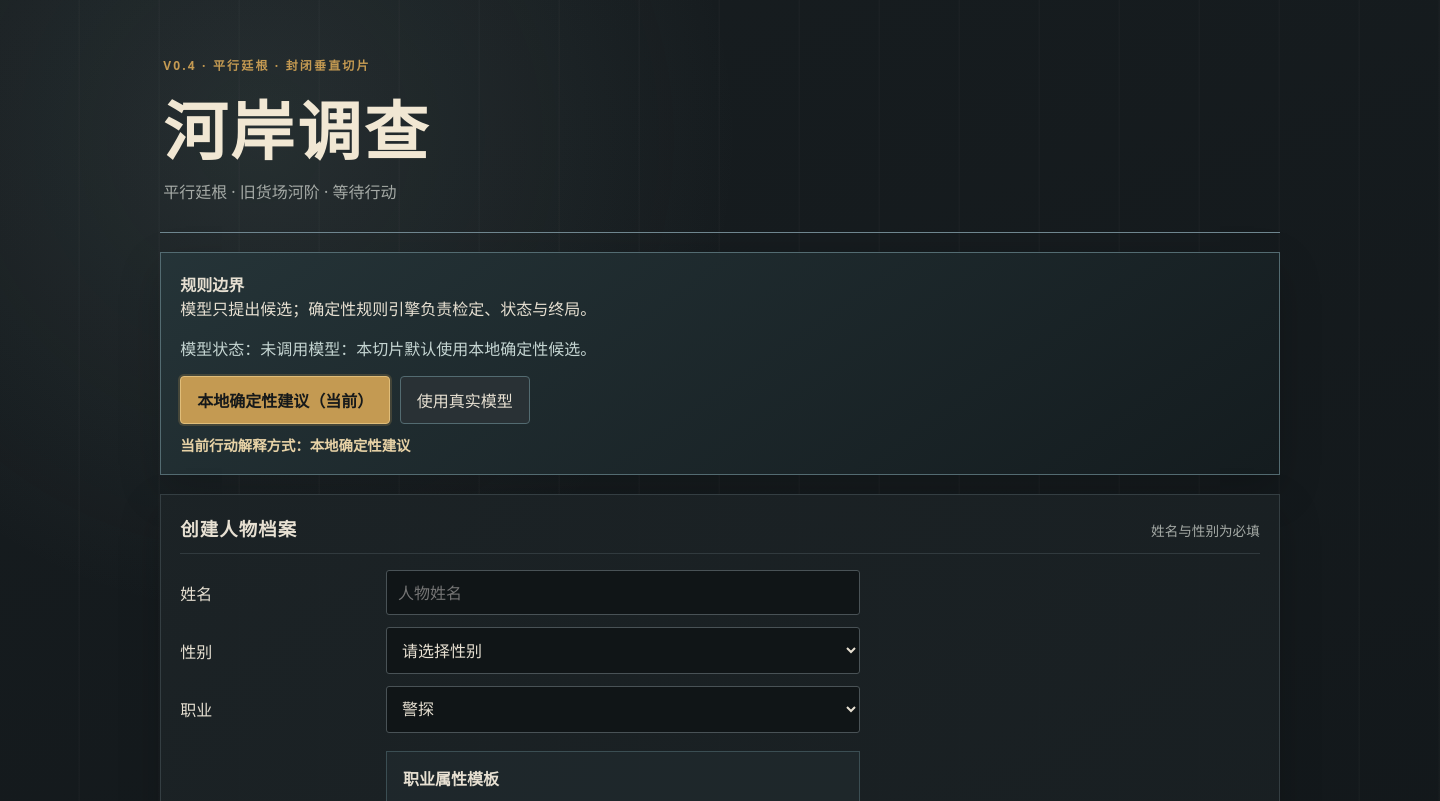
Scenario: V0.4 平行廷根可见切片 › 明确显示当前行动解释方式，并用选中样式反馈模式切换
Check: the text "当前行动解释方式：本地确定性建议" is shown, box [180,436,410,455]
Click the button "使用真实模型" at (465, 400), box [400,376,530,424]
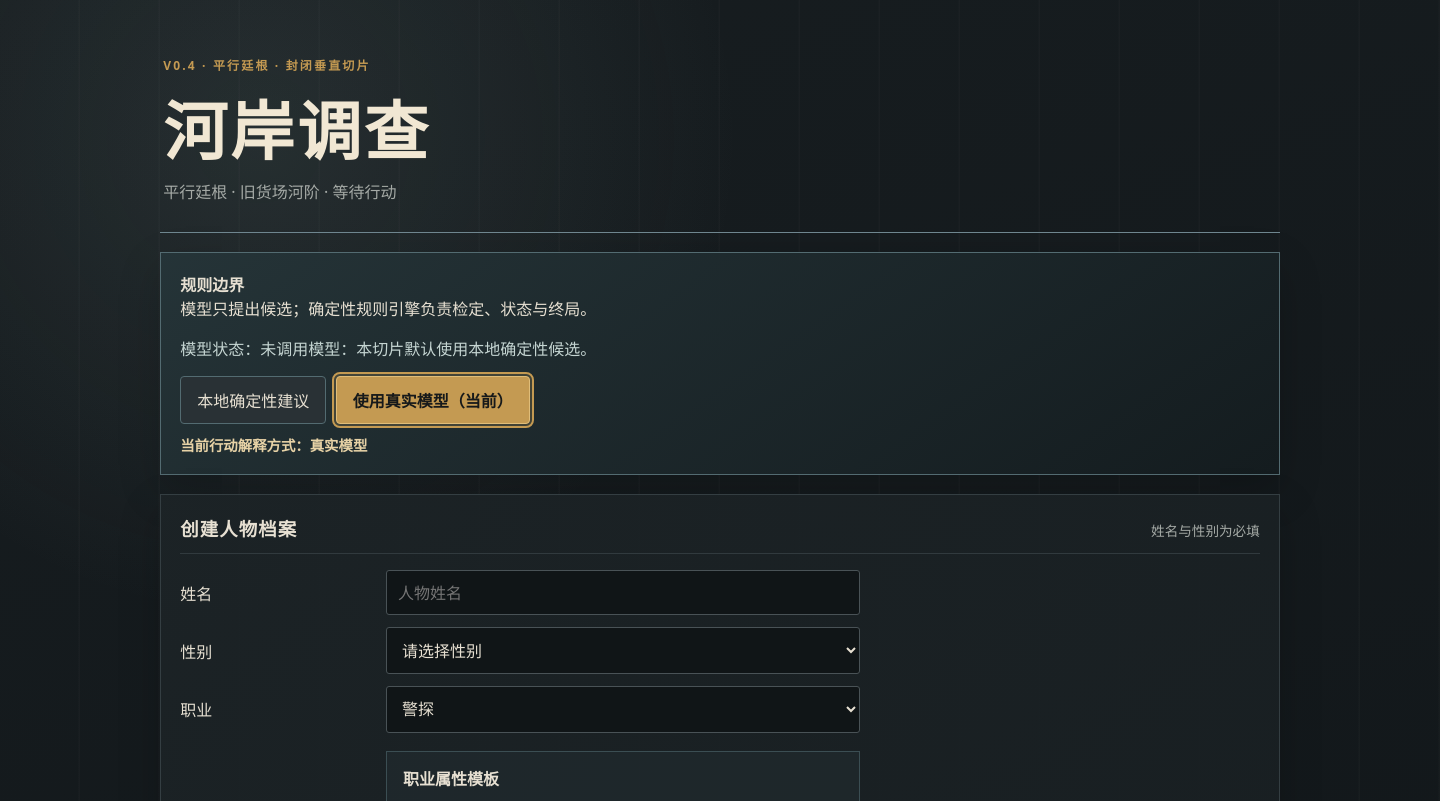
Check: the text "当前行动解释方式：真实模型" is shown, box [180,436,367,455]
